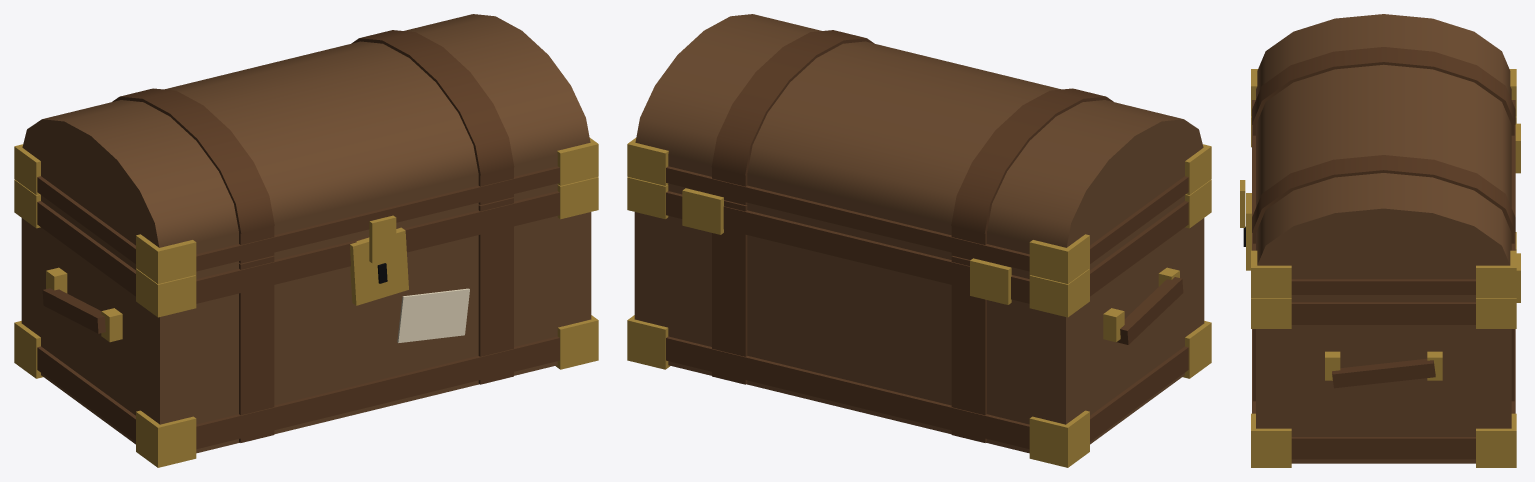
File: Hutkoffer.glb
3 views of the same model, side by side, from view 1: azimuth 30°, elevation 25°; view 2: azimuth 150°, elevation 25°; view 3: azimuth 270°, elevation 25° (orthographic). The views are drawn at different scales.
Visible parts, largest first — view 1: Lid, Body, BodyStraps, LidStraps, BodyBrass, LidBrass, Label; view 2: Lid, Body, BodyStraps, LidStraps, BodyBrass, LidBrass; view 3: Lid, Body, LidStraps, BodyStraps, BodyBrass, LidBrass.
Boxes of the visible parts, <box> form: Lid: <box>22,14,590,272</box>; Body: <box>21,185,591,453</box>; BodyStraps: <box>37,191,559,449</box>; LidStraps: <box>37,30,559,271</box>; BodyBrass: <box>14,177,598,467</box>; LidBrass: <box>14,138,598,283</box>; Label: <box>397,288,469,342</box>; Lid: <box>635,14,1203,272</box>; Body: <box>634,185,1204,453</box>; BodyStraps: <box>666,191,1188,449</box>; LidStraps: <box>666,30,1188,271</box>; BodyBrass: <box>627,177,1211,467</box>; LidBrass: <box>627,138,1211,283</box>; Lid: <box>1256,14,1511,296</box>; Body: <box>1256,296,1511,463</box>; LidStraps: <box>1252,47,1515,294</box>; BodyStraps: <box>1252,302,1515,459</box>; BodyBrass: <box>1246,116,1520,467</box>; LidBrass: <box>1240,69,1516,297</box>.
Size of the model in its own units: 0.985 by 0.561 by 0.549.
